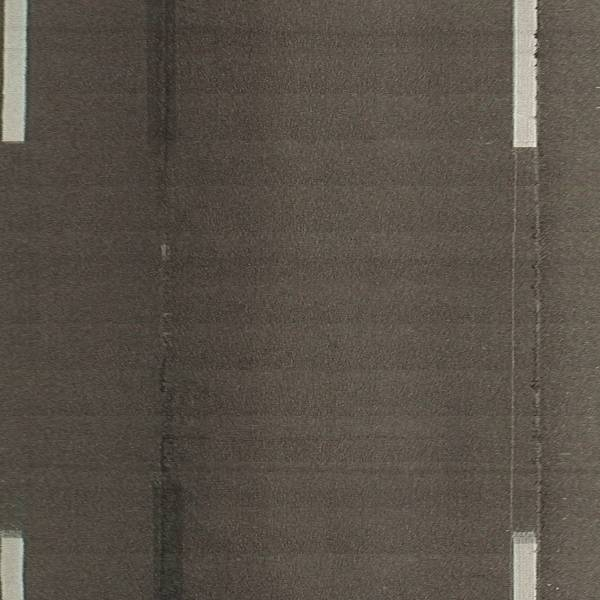road_damage: (153, 353, 187, 482)
